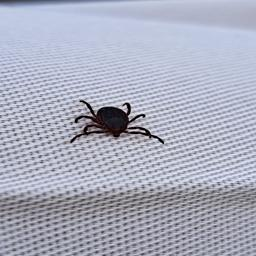Rhipicephalus sanguineus: (69, 99, 166, 145)
